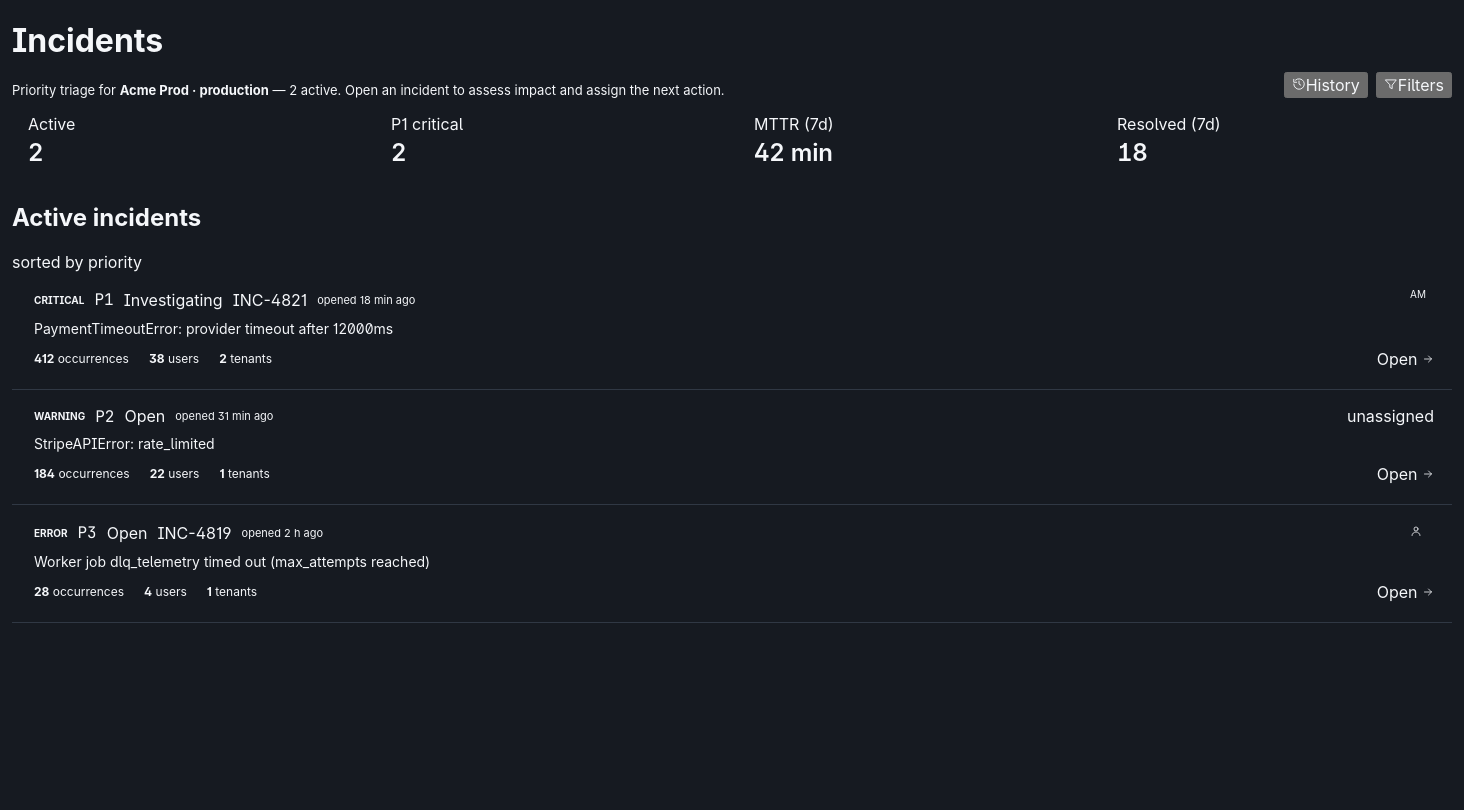
Scenario: IncidentsScreen › interactions › toggles between active incidents and history
Click the button "History" at (1326, 85), box [1284,72,1368,98]
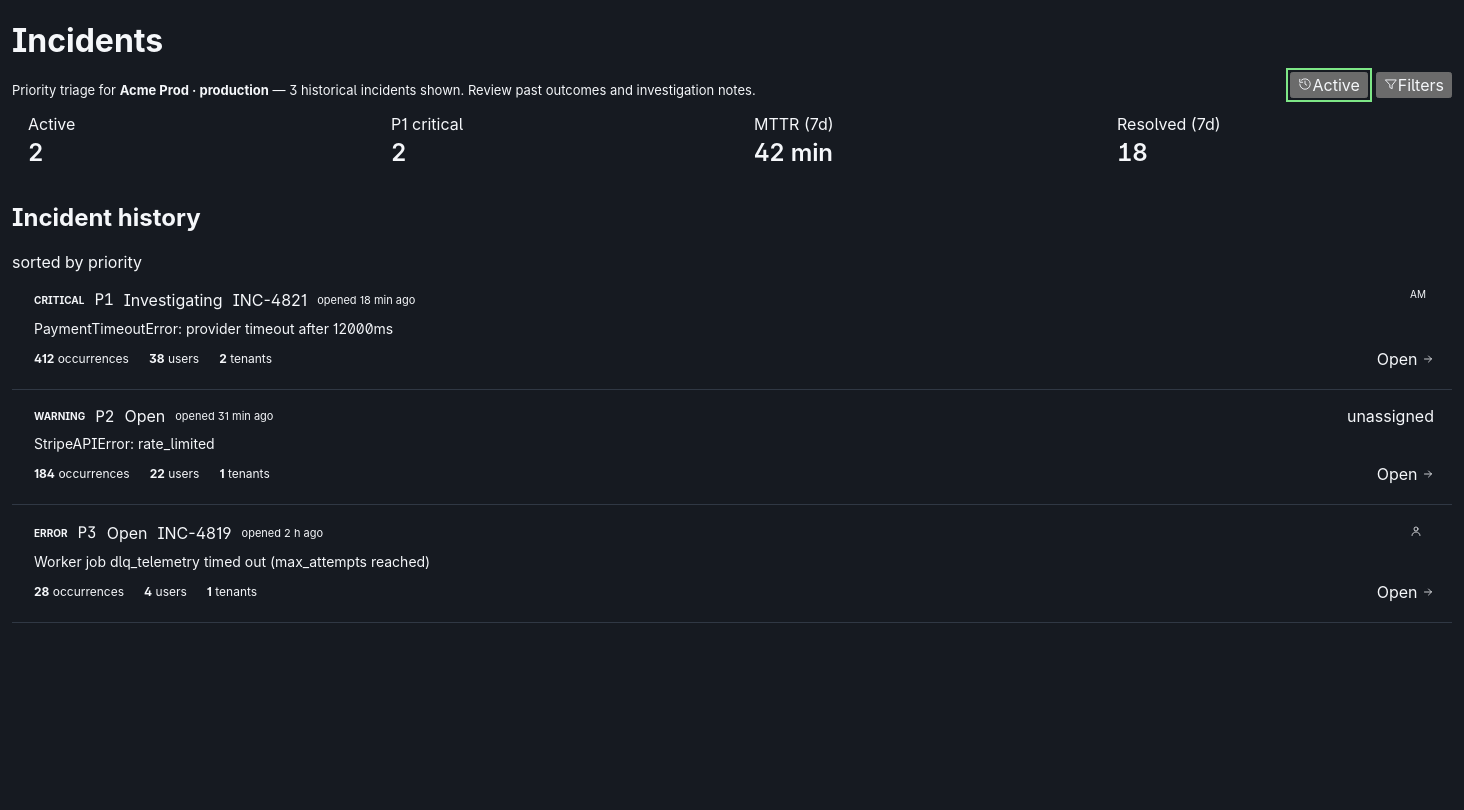
expect the button "Active" is shown: met, box [1290,72,1368,98]
expect the heading "Incident history" is shown: met, box [12,203,201,232]
expect the heading "Active incidents" is gone: met
